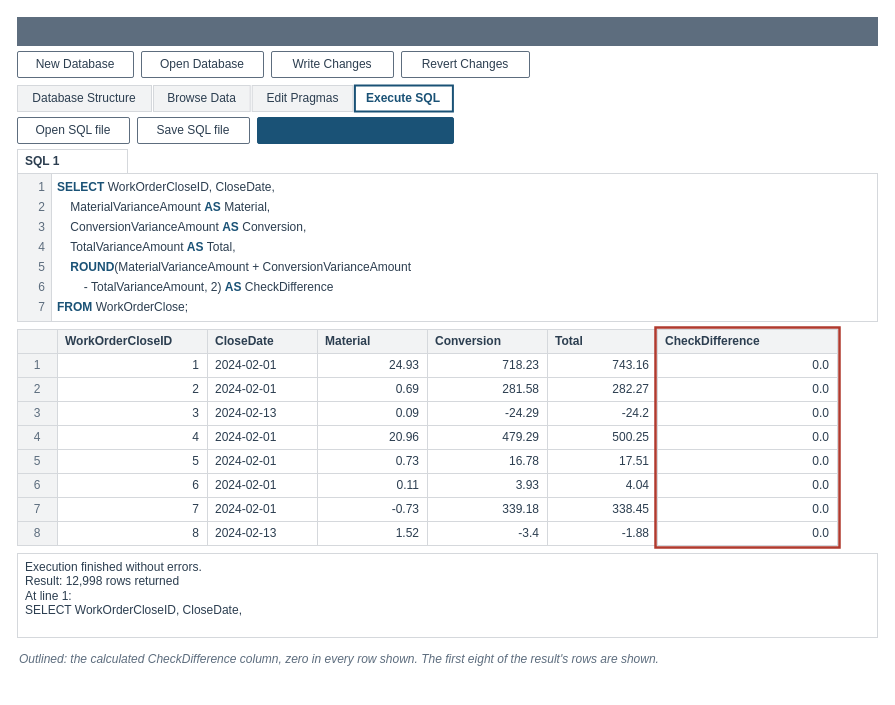
Some shapes in this 895 by 705 pixel diagram are drawn without their labels. Here are the shapes that lost their labels. From the top down, the centre of each, then its label:
(x=447, y=31): DB Browser for SQLite - CharlesRiver_Work.sqlite
(x=355, y=130): ▶ Execute all/selected SQL
